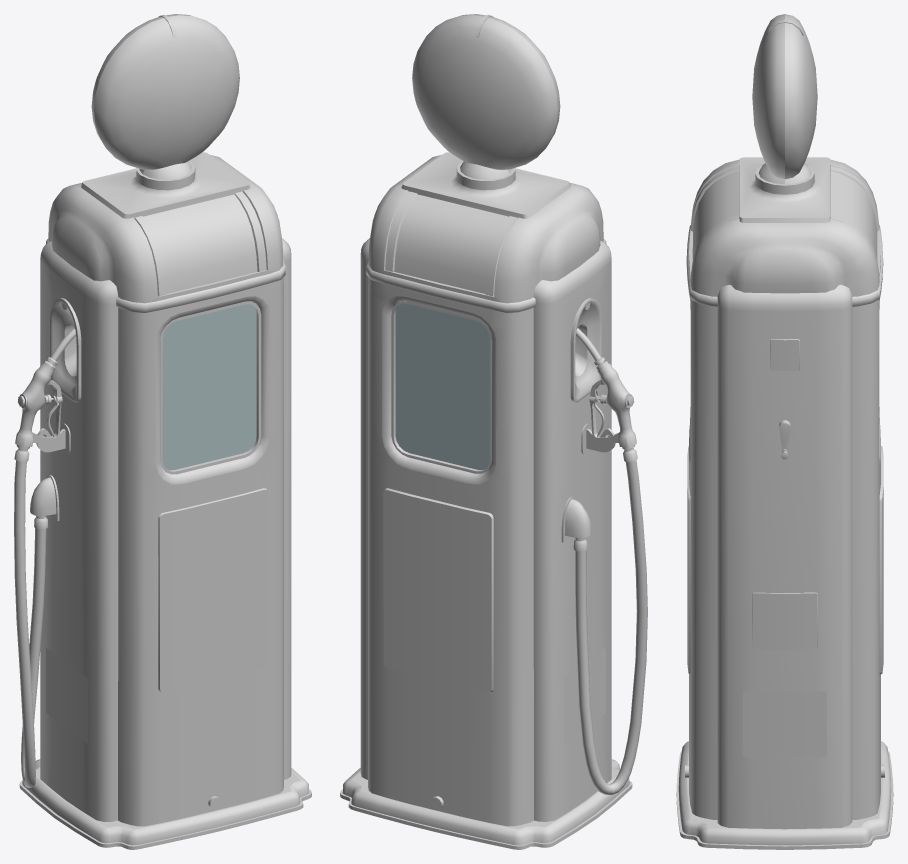
File: gasoline_pump_low_poly.fbx
3 views of the same model, side by side, from view 1: azimuth 30°, elevation 25°; view 2: azimuth 150°, elevation 25°; view 3: azimuth 270°, elevation 25° (orthographic).
Parts seen in each view (by area): view 1: gasoline_pump_low_poly.001, gasoline_pump_glass; view 2: gasoline_pump_low_poly.001, gasoline_pump_glass; view 3: gasoline_pump_low_poly.001.
Boxes of the visible parts, box(x1,y1,x2,y2) form: gasoline_pump_low_poly.001: box(14, 14, 311, 849); gasoline_pump_glass: box(162, 304, 256, 470); gasoline_pump_low_poly.001: box(340, 14, 647, 849); gasoline_pump_glass: box(395, 304, 489, 469); gasoline_pump_low_poly.001: box(676, 14, 893, 849).
Size of the model in its own units: 76.58 by 209 by 53.16.
